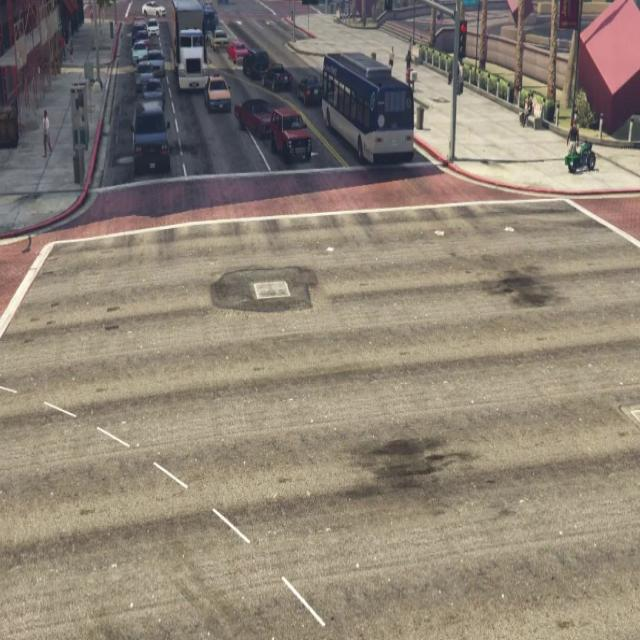Red-Signal: (453, 8, 476, 70), (372, 0, 401, 23), (292, 0, 325, 16)
